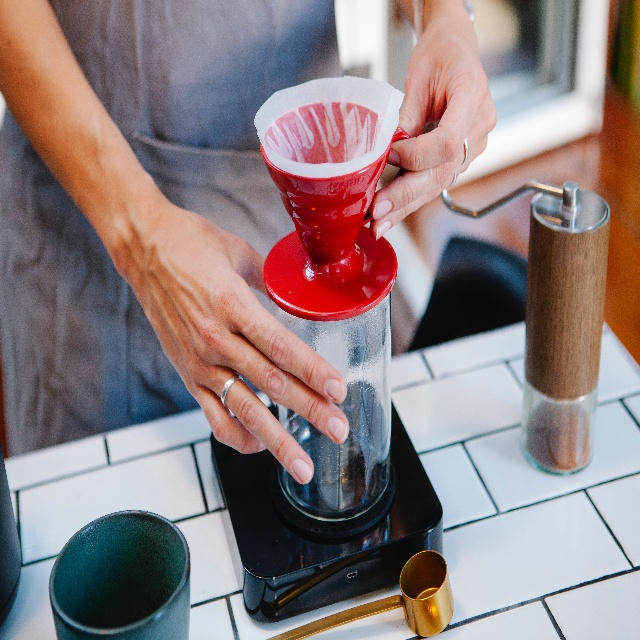Sin_guantes: (131, 200, 350, 486), (369, 13, 497, 242)
